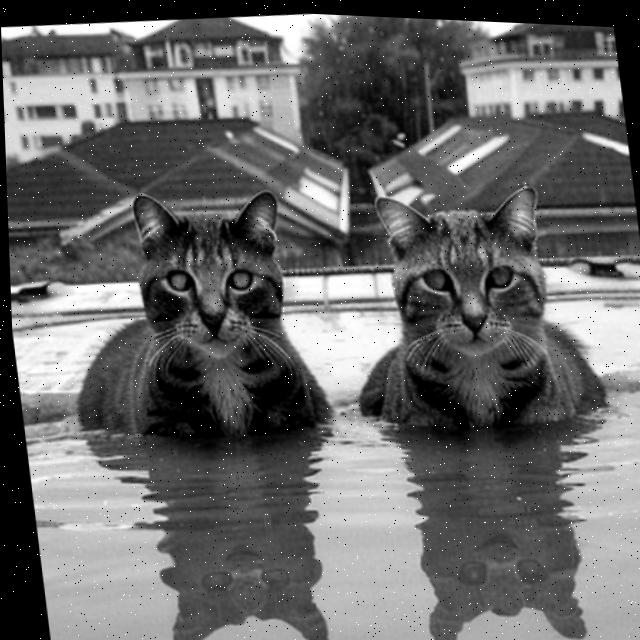cat: (49, 167, 366, 486), (335, 166, 608, 464)
